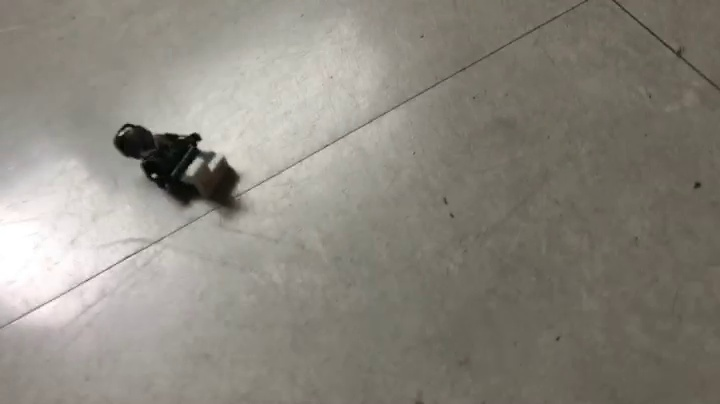people: (113, 123, 242, 205)
